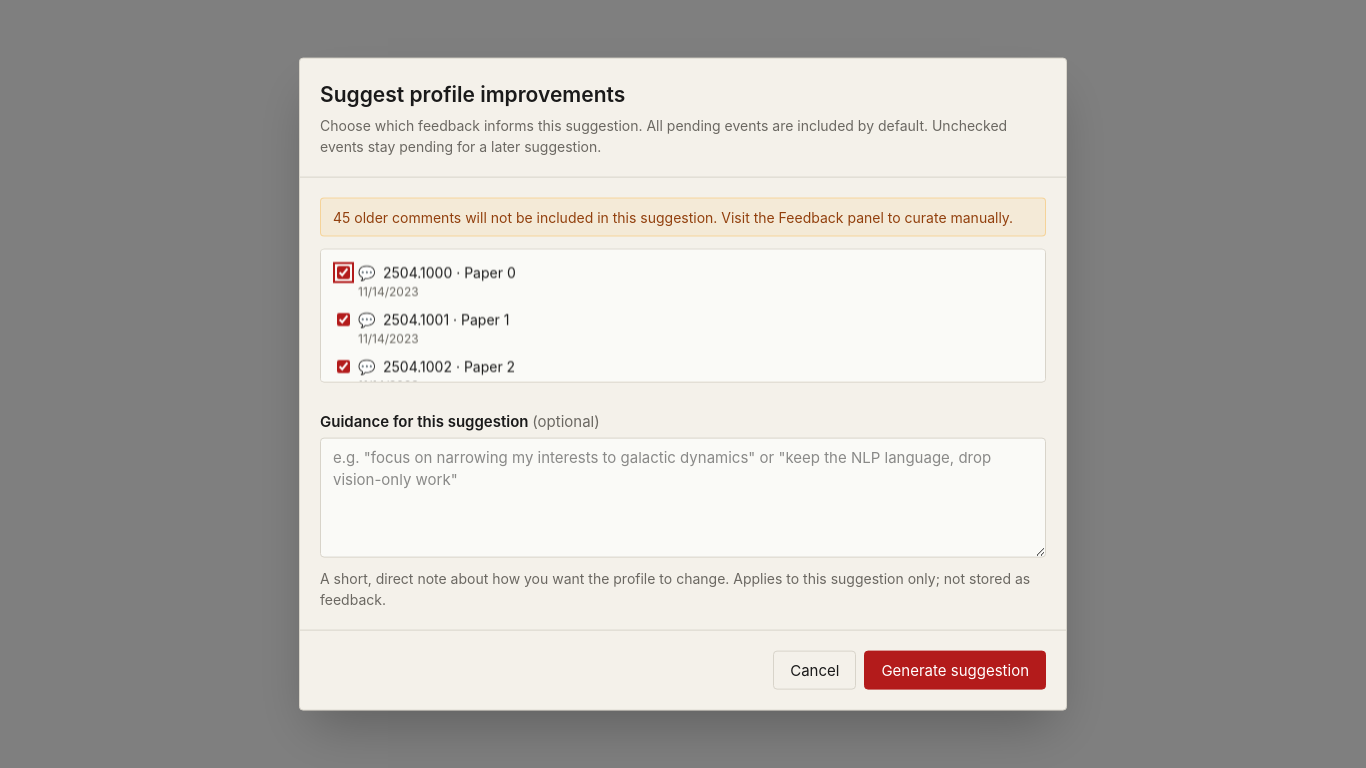
Scenario: SuggestDialog — comment cap is applied to the POST body, not display-only › sends only the most-recent `cap` comments while retaining all high-signal events
Expected: the text "45 older comments will not be included" is shown, left=320, top=197, right=1046, bottom=236
Click the button "Generate suggestion" at (955, 670), box left=864, top=650, right=1046, bottom=689
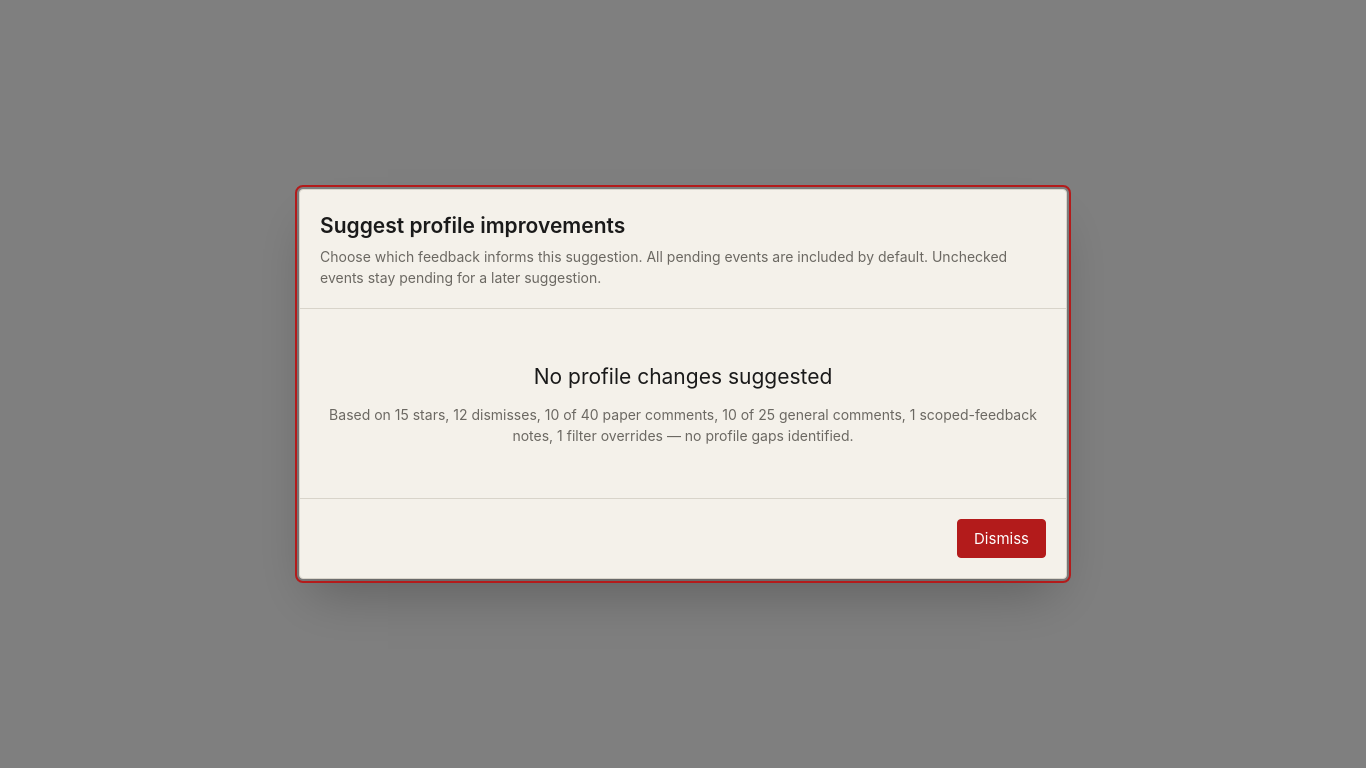
Now the text "No profile changes suggested" is shown, box left=534, top=364, right=832, bottom=388
